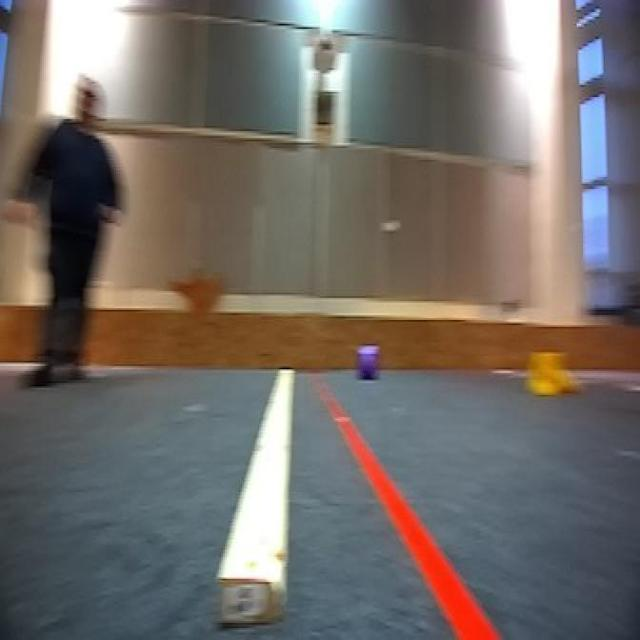frc_cone: (526, 344, 578, 402)
frc_cube: (357, 342, 381, 380)
